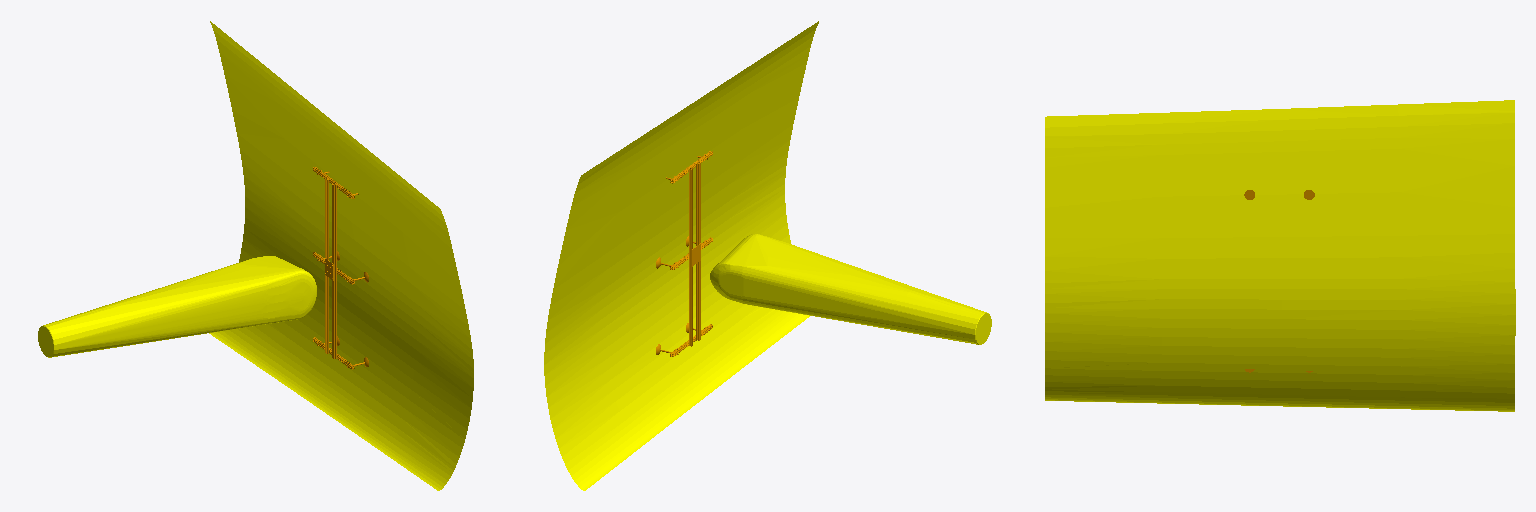
The robot description file, URDF, robot "abb_irb6640_185_280":
<?xml version="1.0" ?>
<!-- =================================================================================== -->
<!-- |    This document was autogenerated by xacro from irb6640_185_280.xacro          | -->
<!-- |    EDITING THIS FILE BY HAND IS NOT RECOMMENDED                                 | -->
<!-- =================================================================================== -->
<robot name="abb_irb6640_185_280">
  <!-- link list -->
  <link name="base_link">
    <collision name="collision">
      <geometry>
        <mesh filename="package://abb_irb6640_support/meshes/irb6640_185_280/collision/base_link.stl"/>
      </geometry>
    </collision>
    <visual name="visual">
      <geometry>
        <mesh filename="package://abb_irb6640_support/meshes/irb6640_185_280/collision/base_link.stl"/>
      </geometry>
      <material name="yellow">
        <color rgba="1 1 0 1"/>
      </material>
    </visual>
  </link>
  <link name="link_1">
    <collision name="collision">
      <geometry>
        <mesh filename="package://abb_irb6640_support/meshes/irb6640_185_280/collision/link_1.stl"/>
      </geometry>
    </collision>
    <visual name="visual">
      <geometry>
        <mesh filename="package://abb_irb6640_support/meshes/irb6640_185_280/collision/link_1.stl"/>
      </geometry>
      <material name="yellow"/>
    </visual>
  </link>
  <link name="link_2">
    <collision name="collision">
      <geometry>
        <mesh filename="package://abb_irb6640_support/meshes/irb6640_185_280/collision/link_2.stl"/>
      </geometry>
    </collision>
    <visual name="visual">
      <geometry>
        <mesh filename="package://abb_irb6640_support/meshes/irb6640_185_280/collision/link_2.stl"/>
      </geometry>
      <material name="yellow"/>
    </visual>
  </link>
  <link name="link_3">
    <collision name="collision">
      <geometry>
        <mesh filename="package://abb_irb6640_support/meshes/irb6640_185_280/collision/link_3.stl"/>
      </geometry>
    </collision>
    <visual name="visual">
      <geometry>
        <mesh filename="package://abb_irb6640_support/meshes/irb6640_185_280/collision/link_3.stl"/>
      </geometry>
      <material name="yellow"/>
    </visual>
  </link>
  <link name="link_4">
    <collision name="collision">
      <geometry>
        <mesh filename="package://abb_irb6640_support/meshes/irb6640_185_280/collision/link_4_scaled.stl"/>
      </geometry>
    </collision>
    <visual name="visual">
      <geometry>
        <mesh filename="package://abb_irb6640_support/meshes/irb6640_185_280/collision/link_4_scaled.stl"/>
      </geometry>
      <material name="yellow"/>
    </visual>
  </link>
  <link name="link_5">
    <collision name="collision">
      <geometry>
        <mesh filename="package://abb_irb6640_support/meshes/irb6640_185_280/collision/link_5.stl"/>
      </geometry>
    </collision>
    <visual name="visual">
      <geometry>
        <mesh filename="package://abb_irb6640_support/meshes/irb6640_185_280/collision/link_5.stl"/>
      </geometry>
      <material name="yellow"/>
    </visual>
  </link>
  <link name="link_6">
    <collision name="collision">
      <geometry>
        <mesh filename="package://abb_irb6640_support/meshes/irb6640_185_280/collision/tool1.stl"/>
      </geometry>
    </collision>
    <visual name="visual">
      <geometry>
        <mesh filename="package://abb_irb6640_support/meshes/irb6640_185_280/collision/tool1.stl"/>
      </geometry>
      <material name="yellow"/>
    </visual>
  </link>
  <link name="panel">
    <collision name="collision">
      <geometry>
        <mesh filename="package://irb6640_gazebo/models/tip.stl"/>
      </geometry>
    </collision>
    <visual name="visual">
      <geometry>
        <mesh filename="package://irb6640_gazebo/models/tip.stl"/>
      </geometry>
      <material name="yellow"/>
    </visual>
  </link>
  <link name="vacuum_gripper">
      <collision name="collision">
        <origin xyz="0 0 0" rpy="0 0 0"/>
        <geometry>
          <mesh filename="package://irb6640_gazebo/models/vacuum_gripper.stl"/>
        </geometry>
      </collision>
      <visual name="visual">
        <origin xyz="0 0 0" rpy="0 0 0"/>
        <geometry>
          <mesh filename="package://irb6640_gazebo/models/vacuum_gripper.stl"/>
        </geometry>
      </visual>
  </link>
  <link name="tool0"/>
  <!--Cylinder and piston -->
  <link name="link_cylinder">
    <collision name="collision">
      <geometry>
        <mesh filename="package://abb_irb6640_support/meshes/irb6640_185_280/collision/cylinder_link.stl"/>
      </geometry>
    </collision>
    <visual name="visual">
      <geometry>
        <mesh filename="package://abb_irb6640_support/meshes/irb6640_185_280/collision/cylinder_link.stl"/>
      </geometry>
      <material name="yellow"/>
    </visual>
  </link>
  <link name="link_piston">
    <collision name="collision">
      <geometry>
        <mesh filename="package://abb_irb6640_support/meshes/irb6640_185_280/collision/piston_link.stl"/>
      </geometry>
    </collision>
    <visual name="visual">
      <geometry>
        <mesh filename="package://abb_irb6640_support/meshes/irb6640_185_280/collision/piston_link.stl"/>
      </geometry>
      <material name="yellow"/>
    </visual>
  </link>
  <!-- end of link list -->
  <!-- joint list -->
  <joint name="joint_1" type="revolute">
    <origin rpy="0 0 0" xyz="0 0 0.780"/>
    <axis xyz="0 0 1"/>
    <parent link="base_link"/>
    <child link="link_1"/>
    <limit effort="0" lower="-2.967" upper="2.967" velocity="1.7453"/>
  </joint>
  <joint name="joint_2" type="revolute">
    <origin rpy="0 0 0" xyz="0.320 0 0"/>
    <axis xyz="0 1 0"/>
    <parent link="link_1"/>
    <child link="link_2"/>
    <limit effort="0" lower="-1.134" upper="1.4855" velocity="1.5707"/>
  </joint>
  <joint name="joint_3" type="revolute">
    <origin rpy="0 0 0" xyz="0 0 1.075"/>
    <axis xyz="0 1 0"/>
    <parent link="link_2"/>
    <child link="link_3"/>
    <limit effort="0" lower="-3.142" upper="1.222" velocity="1.5707"/>
  </joint>
  <joint name="joint_4" type="revolute">
    <origin rpy="0 0 0" xyz="0 0 0.2"/>
    <axis xyz="1 0 0"/>
    <parent link="link_3"/>
    <child link="link_4"/>
    <limit effort="0" lower="-5.236" upper="5.236" velocity="2.9671"/>
  </joint>
  <joint name="joint_5" type="revolute">
    <origin rpy="0 0 0" xyz="1.142 0 0 "/>
    <axis xyz="0 1 0"/>
    <parent link="link_4"/>
    <child link="link_5"/>
    <limit effort="0" lower="-2.094" upper="2.094" velocity="2.4435"/>
  </joint>
  <joint name="joint_6" type="revolute">
    <origin rpy="0 0 0" xyz="0.15 0 0"/>
    <axis xyz="1 0 0"/>
    <parent link="link_5"/>
    <child link="link_6"/>
    <limit effort="0" lower="-6.283" upper="6.283" velocity="3.3161"/>
  </joint>
  <joint name="joint_6-tool0" type="fixed">
    <parent link="link_6"/>
    <child link="tool0"/>
    <origin rpy="0 1.57079632679 0" xyz="0 0 0"/>
  </joint>
  <joint name="joint_6-panel" type="fixed">
    <parent link="link_6"/>
    <child link="panel"/>
    <origin rpy="1.57079632679 0 -1.57079632679" xyz="0.2 0 -0.2"/>
  </joint>
  <joint name="link_6_vacuum_gripper" type="fixed">
      <parent link="link_6"/>
      <child link="vacuum_gripper"/>
      <origin rpy="0 -1.57079632679 0" xyz="0.25 0 0"/>
      <limit effort="30" velocity="1.0" lower="0" upper="0" />
  </joint>
  <joint name="joint_cylinder" type="continuous">
    <origin rpy="0 0 0" xyz="-0.3647 0 -0.1455"/>
    <axis xyz="0 1 0"/>
    <parent link="link_1"/>
    <child link="link_cylinder"/>
    <mimic joint="joint_2" multiplier="-0.25"/>
  </joint>
  <joint name="joint_piston" type="continuous">
    <origin rpy="0 0 0" xyz="-0.22 0 -0.0672"/>
    <axis xyz="0 1 0"/>
    <parent link="link_2"/>
    <child link="link_piston"/>
    <mimic joint="joint_2" multiplier="-1.25"/>
  </joint>
  <!-- end of joint list -->
  <!-- ROS base_link to ABB World Coordinates transform -->
  <!--link name="base"/>
  <joint name="base_link-base" type="fixed">
    <origin rpy="0 0 0" xyz="0 0 0"/>
    <parent link="base_link"/>
    <child link="base"/>
  </joint-->
</robot>

--- What the picture shows (computed from the rendered views, not written in the file) ---
Views: 3 orthographic renders of the robot side by side, from view 1: azimuth 30°, elevation 25°; view 2: azimuth 150°, elevation 25°; view 3: azimuth 270°, elevation 25°.
Model abb_irb6640_185_280 with 12 links and 11 joints (6 revolute, 2 continuous, 3 fixed), rooted at base_link, posed every joint at zero.
Visible links, largest first — view 1: panel, link_4, vacuum_gripper; view 2: panel, link_4, vacuum_gripper; view 3: panel.
Link boxes in pixels (x1,y1,x2,y2): panel: (209,21,473,490); link_4: (38,256,316,357); vacuum_gripper: (313,167,368,369); panel: (544,21,818,490); link_4: (710,234,991,344); vacuum_gripper: (656,151,712,356); panel: (1045,100,1515,411).
Size in the robot's own frame: 1.83 by 2.33 by 1.71 metres.
Meshes: 11 distinct files referenced, 3 mesh visuals loaded (3 binary STL); not drawn: 8 (reference not matched to a file when rendering).